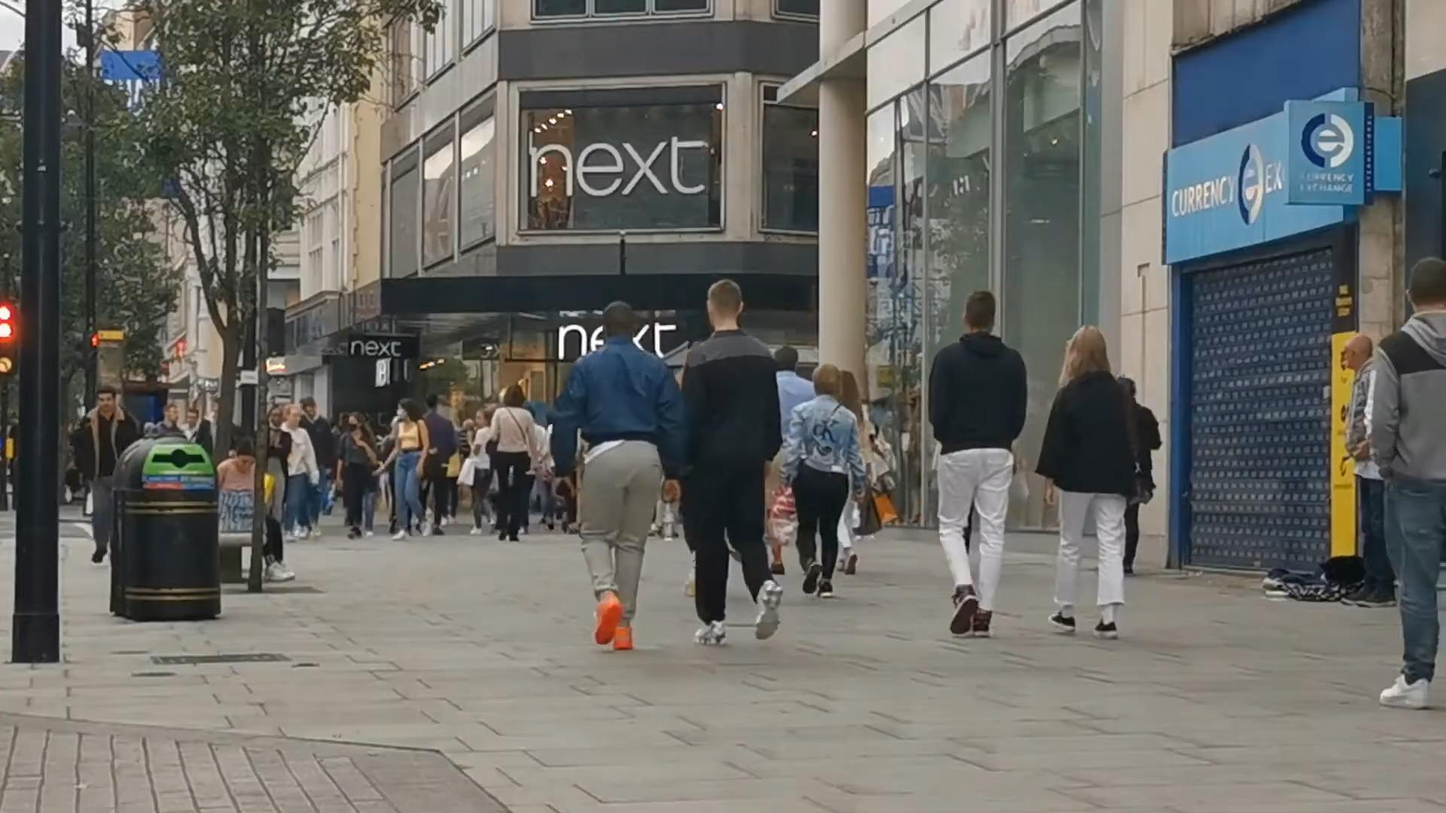no-helmet: (1060, 325, 1111, 384), (1405, 258, 1446, 313), (707, 278, 745, 330), (963, 289, 995, 334), (602, 301, 635, 344), (812, 363, 843, 402), (1344, 334, 1373, 370), (235, 435, 256, 472), (348, 411, 374, 440), (396, 397, 423, 422), (773, 346, 798, 370), (96, 386, 117, 413), (504, 384, 525, 407), (282, 403, 302, 427), (163, 403, 179, 425)
